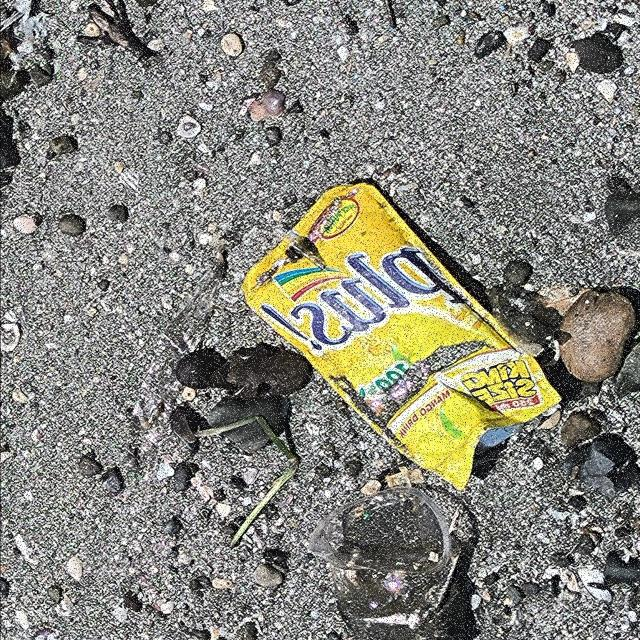plastic_waste: (243, 183, 562, 493), (305, 486, 472, 640)
